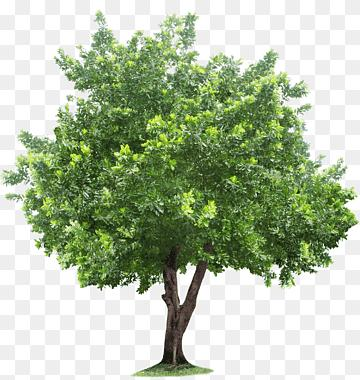tree: (7, 17, 360, 374)
